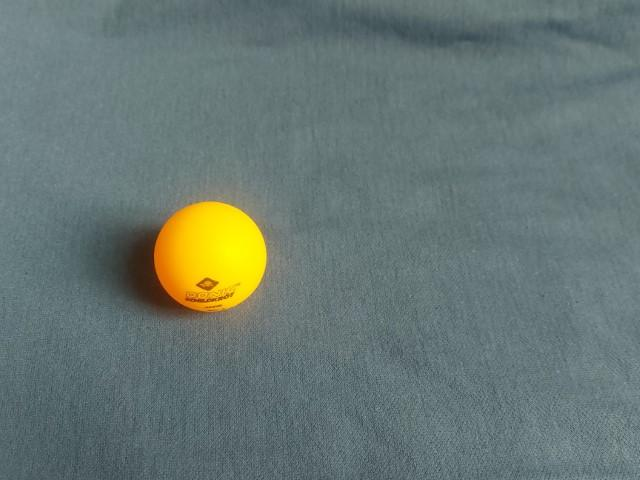oball: (146, 197, 270, 318)
